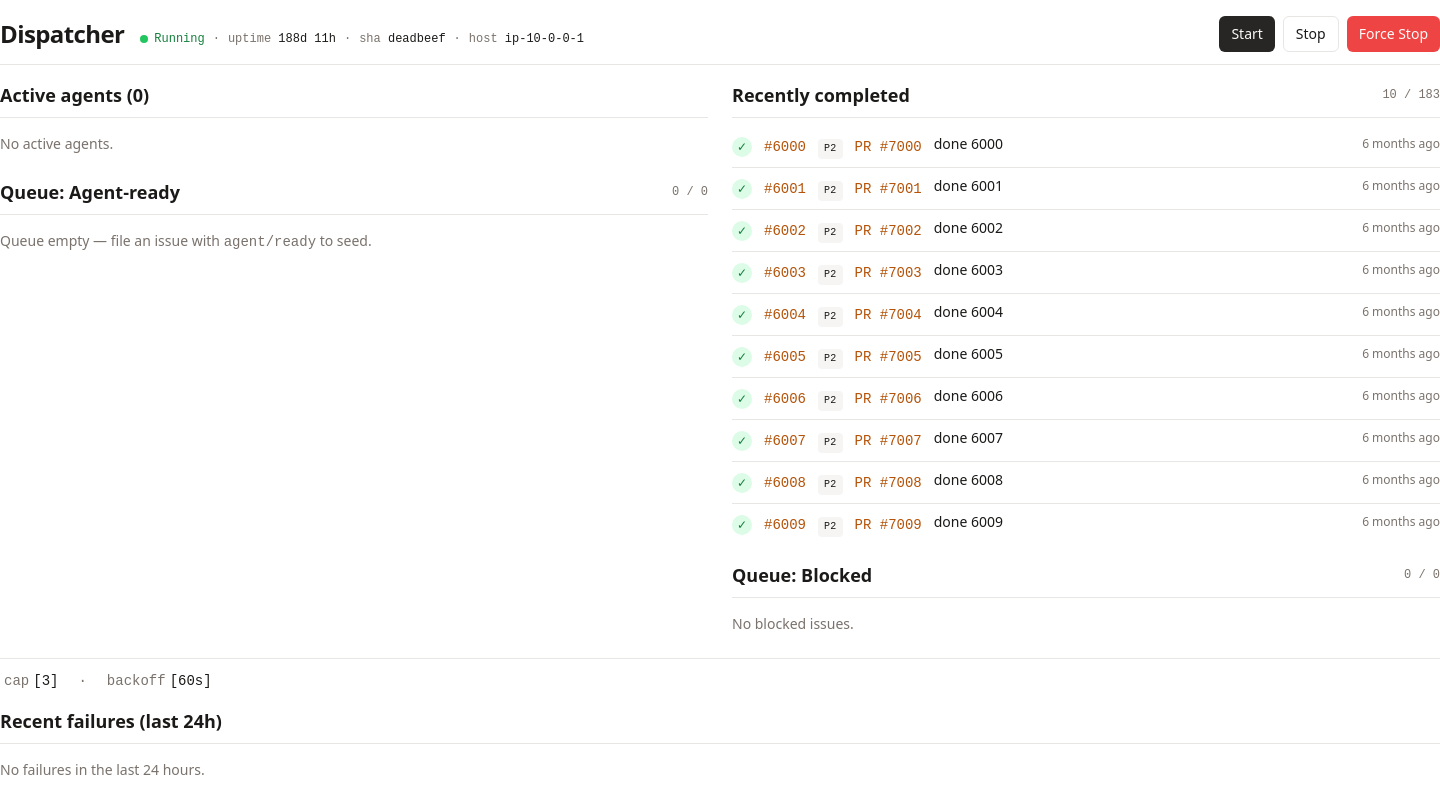
Scenario: DispatcherDashboard — #3222 dialog title (total only) › COMPLETED dialog title reads `Recently completed — {total}`
Click the button with test id "recent-completions-count" at (1411, 95), box [1382,87,1439,103]
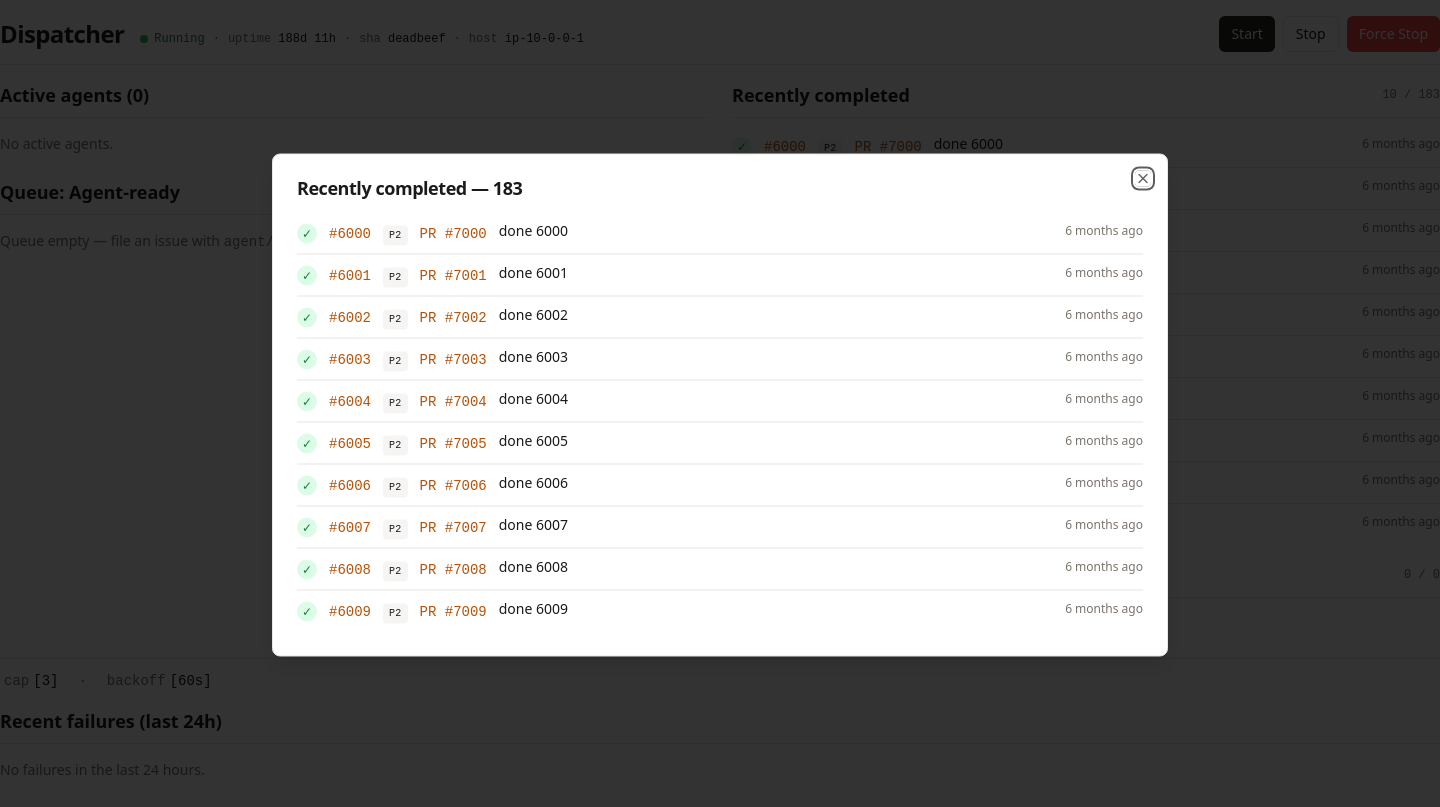
Result: the heading with test id "queue-full-dialog-title" reads "Recently completed — 183" at [297,176,522,200]
